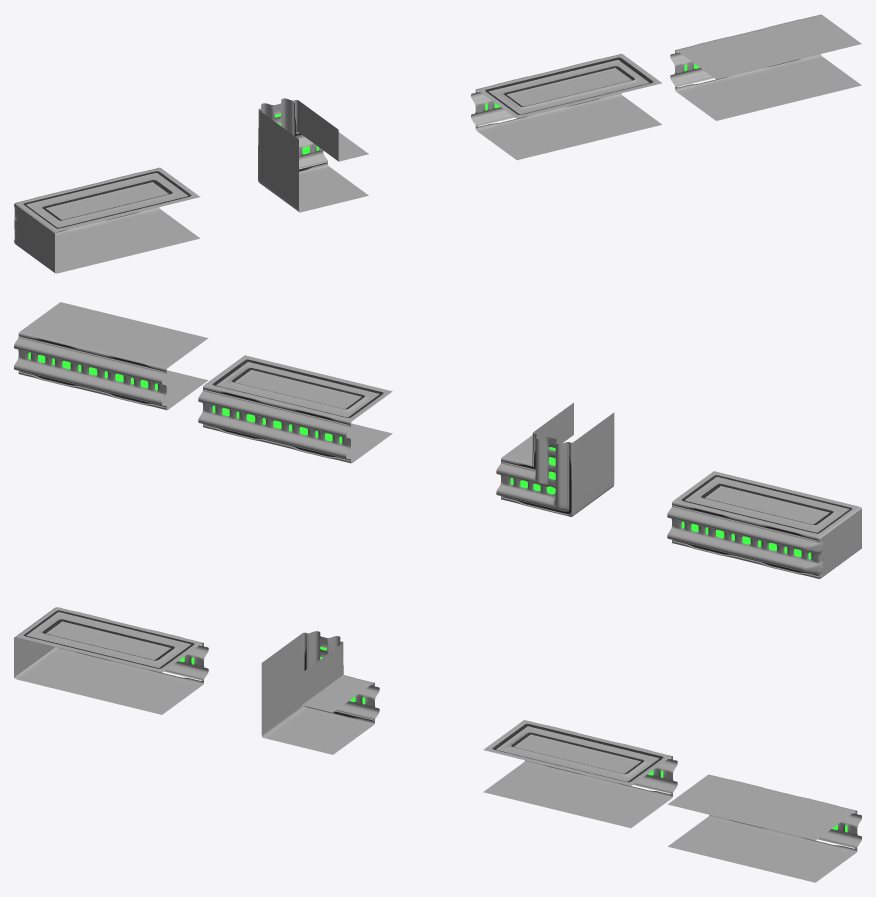
The model's file is FloorTiles 1.fbx.
3 renders of one model, top to bottom at view 1: azimuth 30°, elevation 25°; view 2: azimuth 150°, elevation 25°; view 3: azimuth 330°, elevation 25°, orthographic.
Visible parts, largest first — view 1: Box005, Box003, Box004, Object005; view 2: Box004, Box003, Box005, Object005; view 3: Box004, Box003, Box005, Object005.
Boxes of the visible parts, <box> form: Box005: <box>471,53,662,160</box>; Box003: <box>670,14,861,120</box>; Box004: <box>14,167,200,273</box>; Object005: <box>258,98,368,212</box>; Box004: <box>667,471,861,578</box>; Box003: <box>14,302,208,410</box>; Box005: <box>198,355,392,463</box>; Object005: <box>496,402,614,516</box>; Box004: <box>14,607,208,714</box>; Box003: <box>667,774,861,882</box>; Box005: <box>483,720,677,827</box>; Object005: <box>261,631,379,754</box>.
Bounding box in the file's own units: 8314 × 749 × 990.
